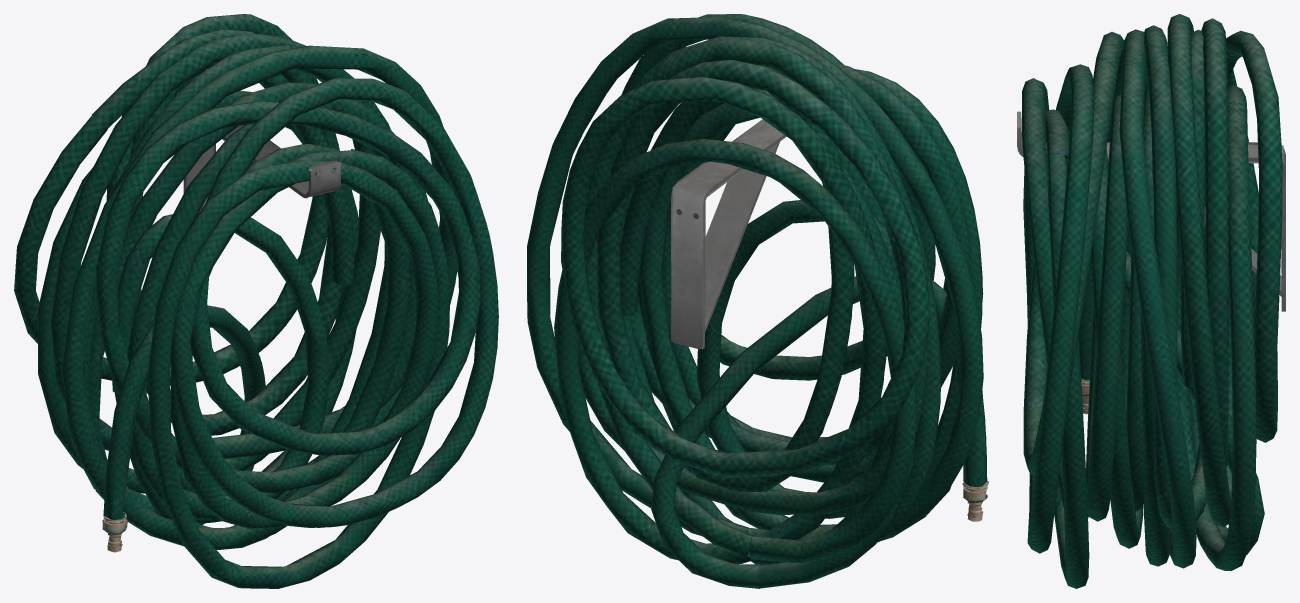
Rendered from ph_garden_hose_wall_mounted_01.glb.
3 renders of one model, left to right at view 1: azimuth 30°, elevation 25°; view 2: azimuth 150°, elevation 25°; view 3: azimuth 270°, elevation 25°, orthographic. The views are drawn at different scales.
Visible parts, largest first — view 1: garden_hose_wall_bracket; view 2: garden_hose_wall_bracket; view 3: garden_hose_wall_bracket.
Part boxes in pixels (box(x1,y1,x2,y2)): garden_hose_wall_bracket: box(14, 14, 498, 588); garden_hose_wall_bracket: box(527, 14, 988, 588); garden_hose_wall_bracket: box(1017, 14, 1285, 588).
Bounding box in the file's own units: 0.4676 × 0.557 × 0.2503.
1 material, 1 textured.
